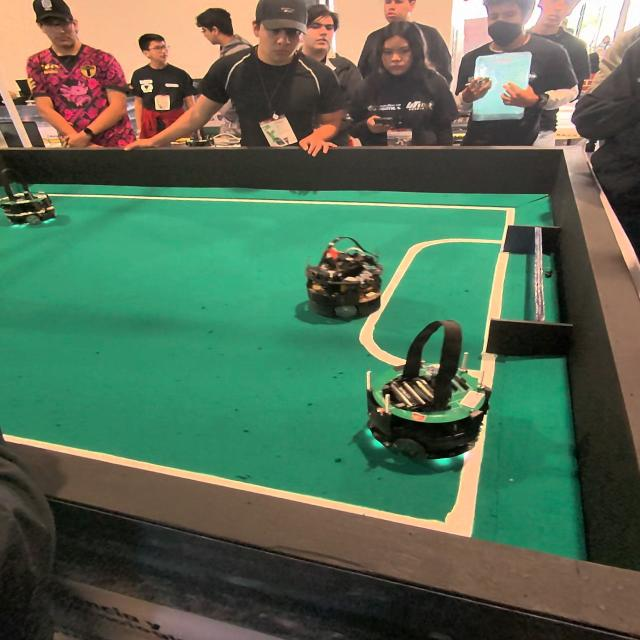Robot: (359, 316, 487, 484), (299, 232, 388, 325), (0, 187, 64, 236)
